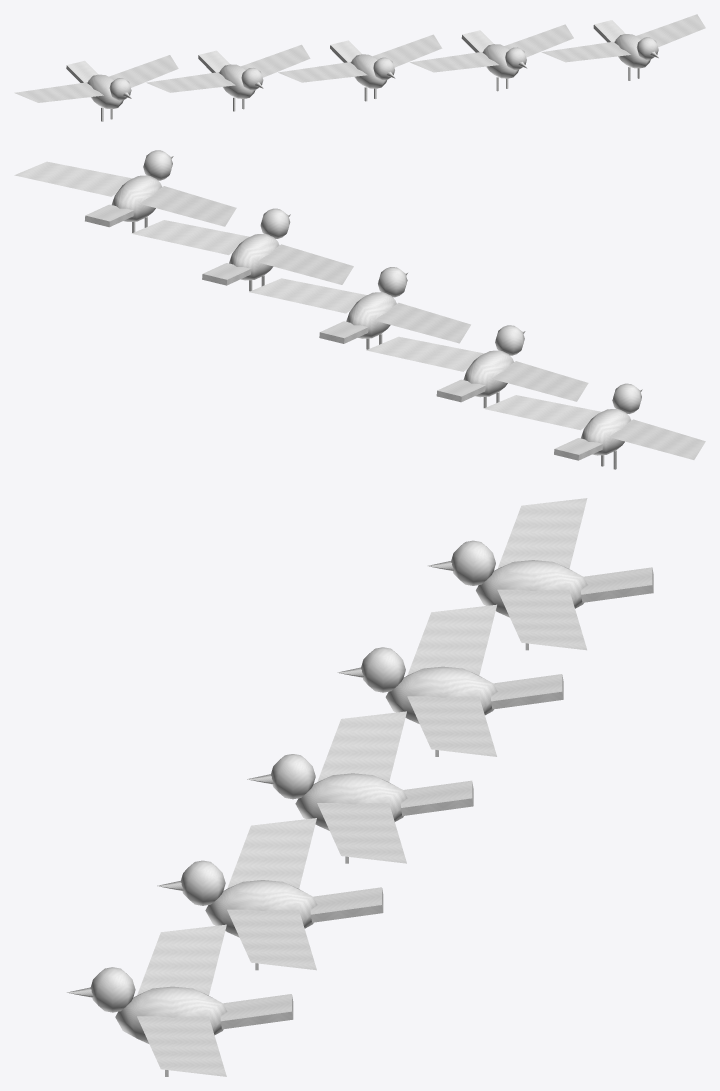
File: crow-cue.glb
The picture shows the model from 3 angles, top to bottom: view 1: azimuth 30°, elevation 25°; view 2: azimuth 150°, elevation 25°; view 3: azimuth 270°, elevation 25°; orthographic projection. The views are drawn at different scales.
Parts seen in each view (by area): view 1: Moving; view 2: Moving; view 3: Moving.
Part boxes in pixels (x1,y1,x2,y2): Moving: (14,14,705,121); Moving: (14,150,705,469); Moving: (67,498,653,1076).
Bounding box in the file's own units: 2.28 × 0.188 × 0.978.
1 material, 1 textured.
